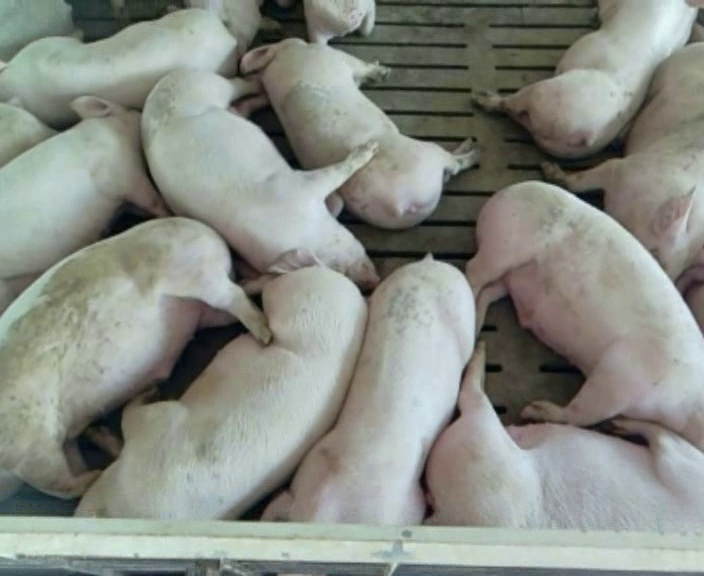pig: (0, 217, 269, 497), (76, 267, 366, 517), (466, 181, 703, 449), (264, 255, 473, 524), (426, 344, 703, 529), (142, 70, 377, 287), (242, 39, 477, 228), (544, 43, 703, 279), (0, 97, 167, 312), (475, 1, 703, 158), (0, 8, 236, 127), (186, 1, 280, 56), (0, 1, 73, 60), (0, 103, 55, 166), (304, 1, 375, 44)
